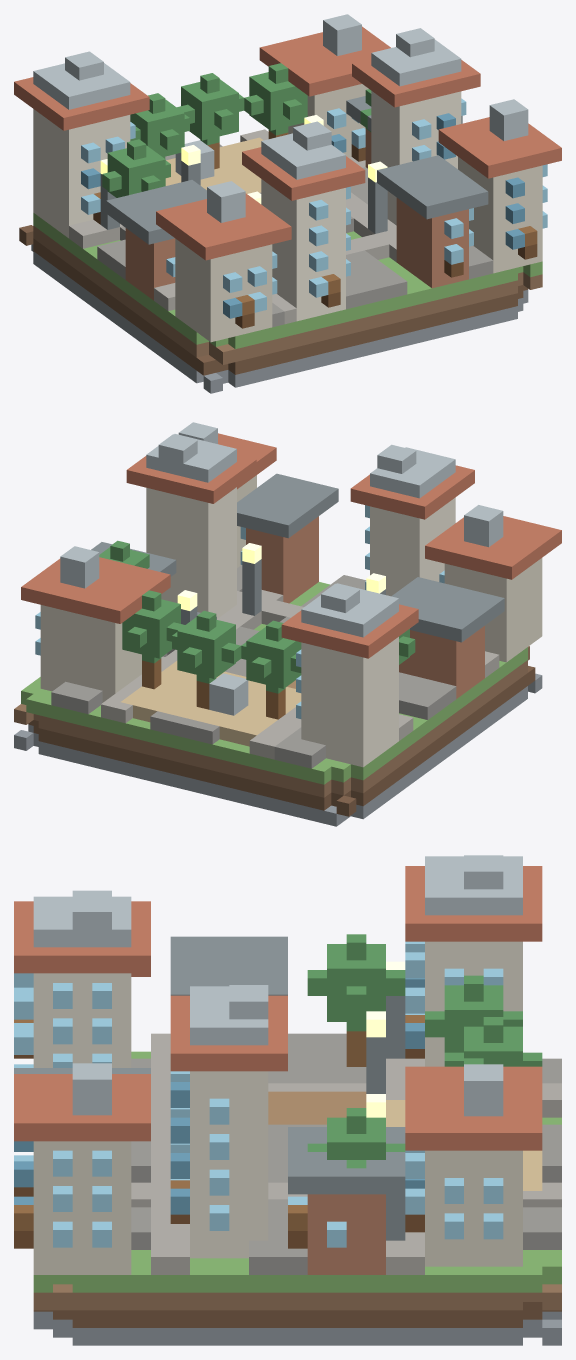
The model's file is city.glb.
3 renders of one model, top to bottom at view 1: azimuth 30°, elevation 25°; view 2: azimuth 150°, elevation 25°; view 3: azimuth 270°, elevation 25°, orthographic. The views are drawn at different scales.
Visible parts, largest first — view 1: VX_city_LOD0; view 2: VX_city_LOD0; view 3: VX_city_LOD0.
Boxes of the visible parts, box(x1,y1,x2,y2) form: VX_city_LOD0: box(14, 14, 561, 393); VX_city_LOD0: box(14, 422, 561, 826); VX_city_LOD0: box(14, 855, 561, 1345).
Bounding box in the file's own units: 6.38 × 3.96 × 6.16.
